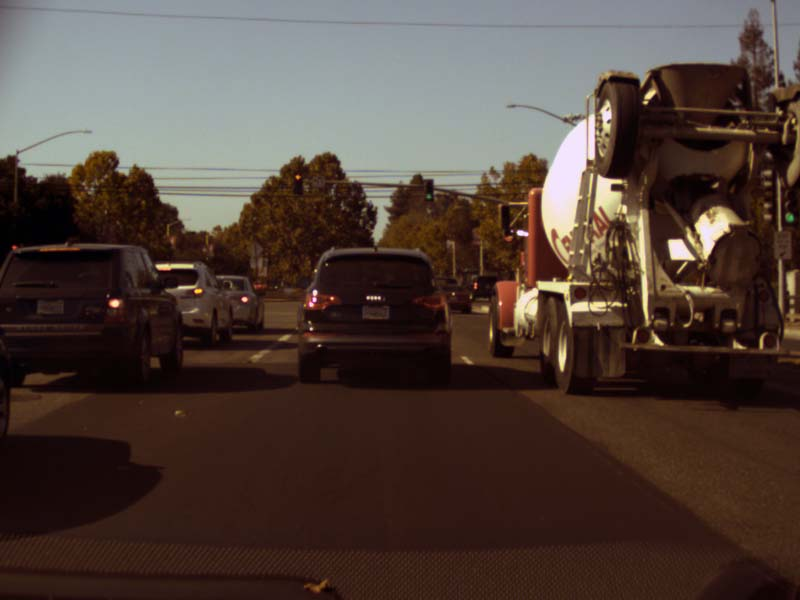Green: (782, 189, 797, 225), (424, 180, 433, 201)
Red: (293, 171, 301, 194)
